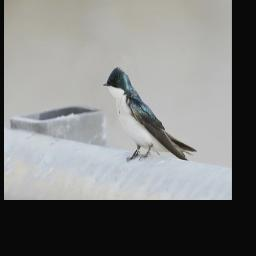Swallow: (102, 65, 198, 165)
